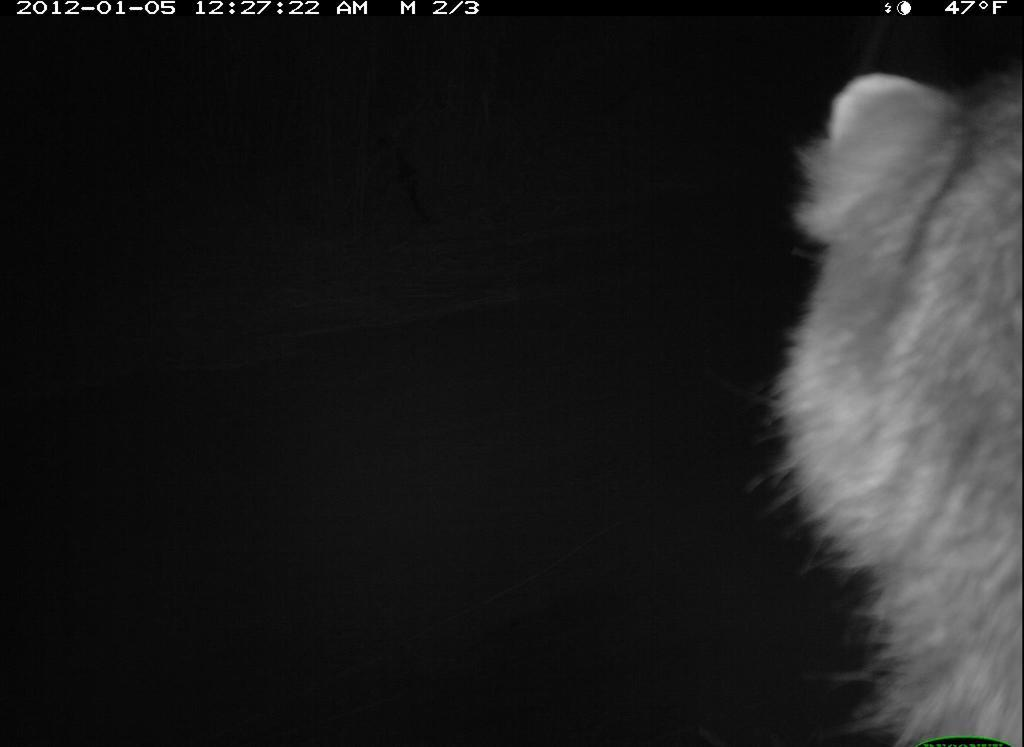raccoon: (760, 63, 1023, 747)
